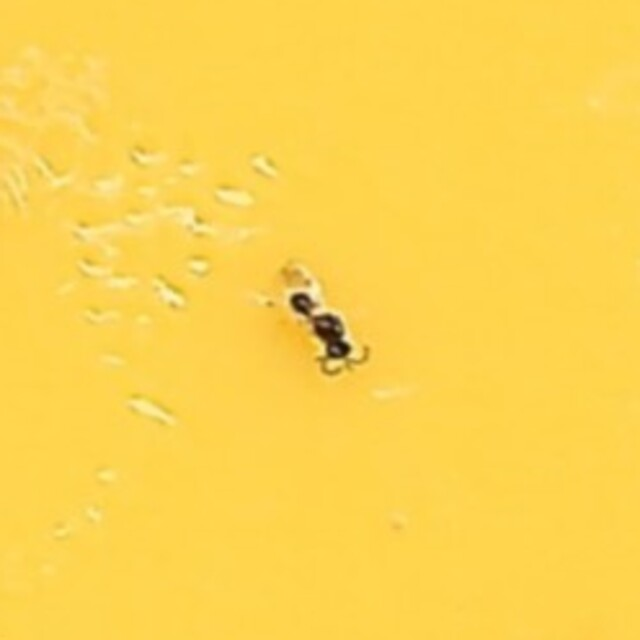Hymenoptera: (258, 252, 382, 388)
